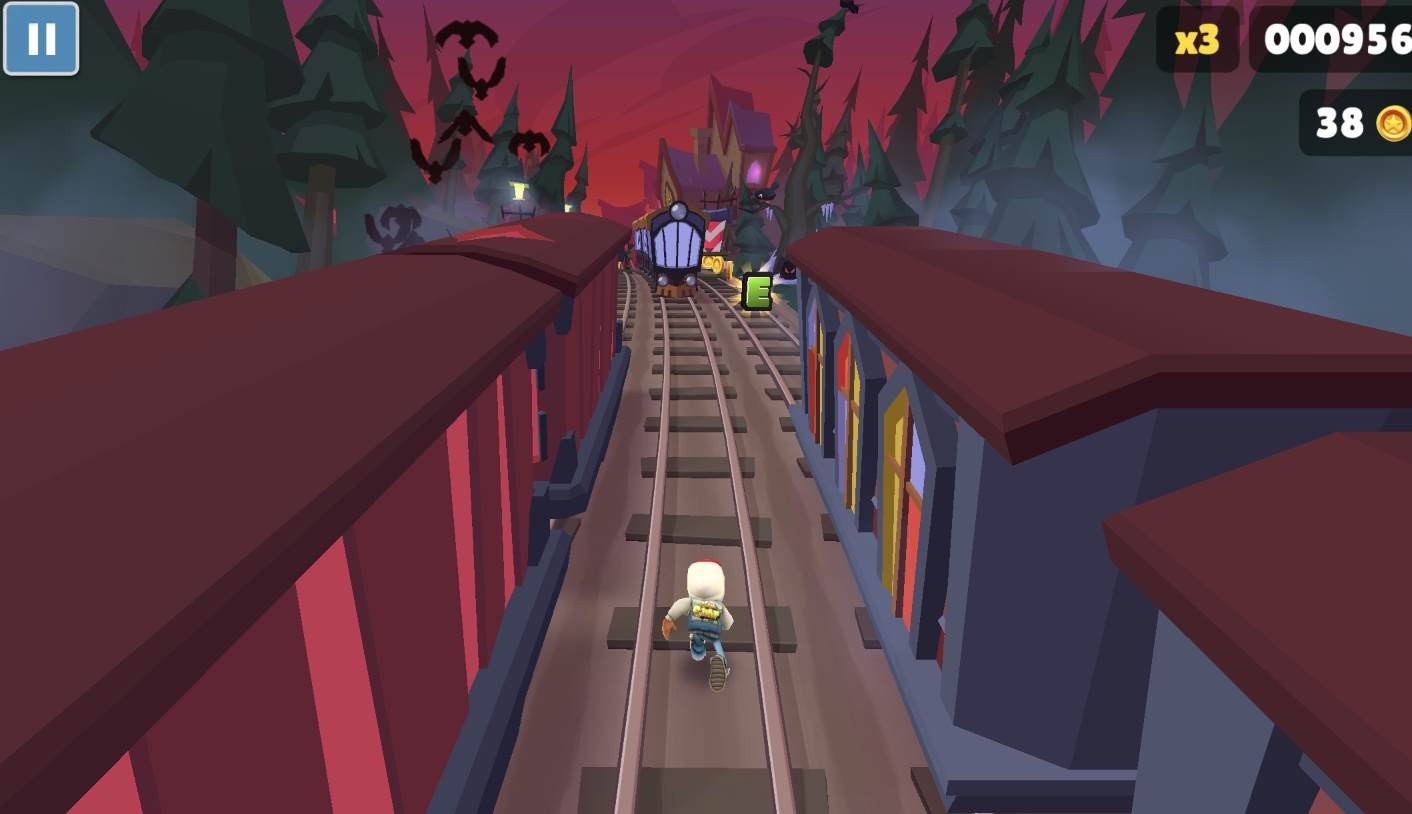ground_barrier: (614, 239, 638, 271)
overhead_barrier: (701, 212, 731, 278)
train: (0, 221, 618, 814), (833, 266, 1412, 814), (636, 201, 711, 303)
